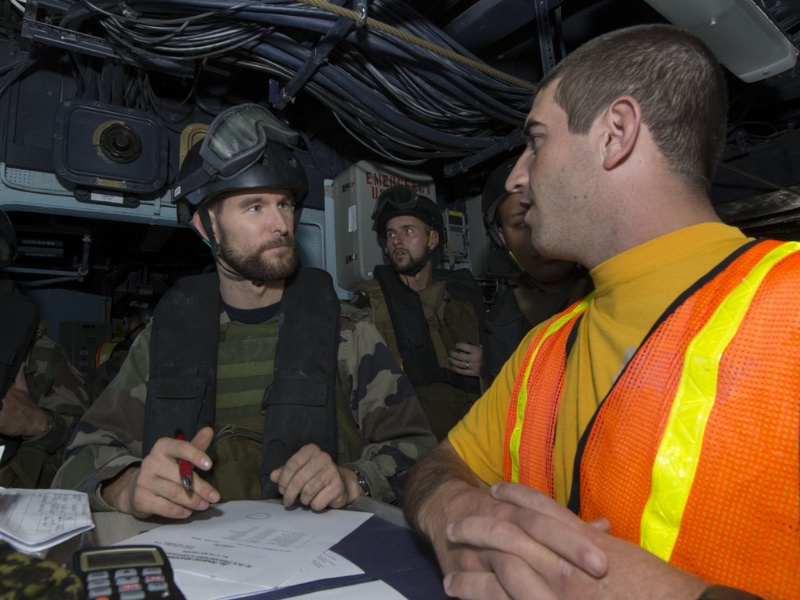helmet: (174, 105, 316, 209)
jacket: (515, 251, 800, 595)
